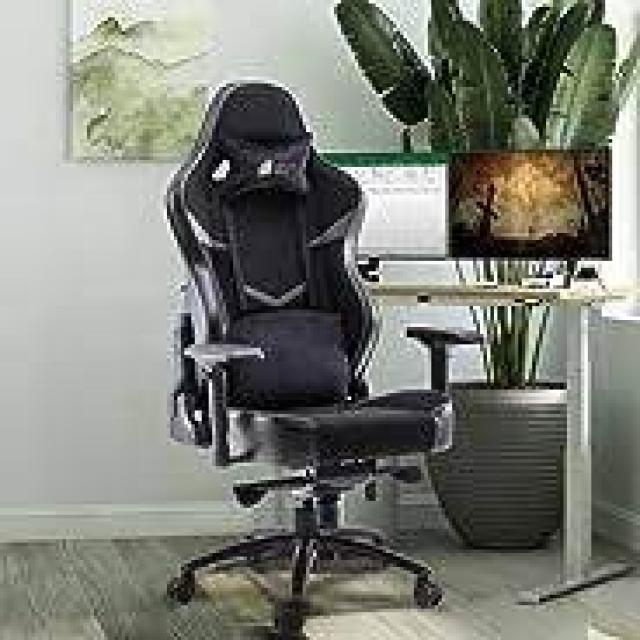chair: (110, 59, 484, 637)
